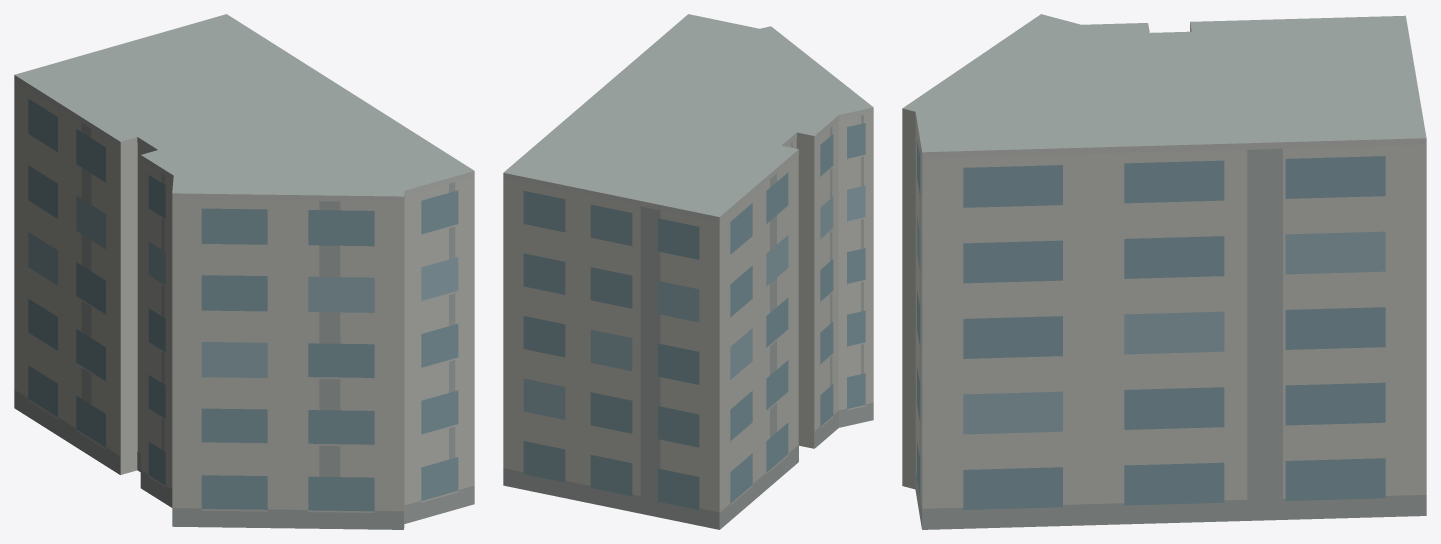
Rendered from survey-upis-32701906.glb.
The picture shows the model from 3 angles, left to right: view 1: azimuth 30°, elevation 25°; view 2: azimuth 150°, elevation 25°; view 3: azimuth 270°, elevation 25°; orthographic projection. The views are drawn at different scales.
Visible parts, largest first — view 1: survey-upis-32701906.tmp; view 2: survey-upis-32701906.tmp; view 3: survey-upis-32701906.tmp.
Boxes of the visible parts, x1,y1,x2,y2 form: survey-upis-32701906.tmp: (14, 14, 474, 529); survey-upis-32701906.tmp: (503, 14, 873, 529); survey-upis-32701906.tmp: (902, 14, 1426, 529).
Size of the model in its own units: 11.08 by 14.1 by 17.75.
